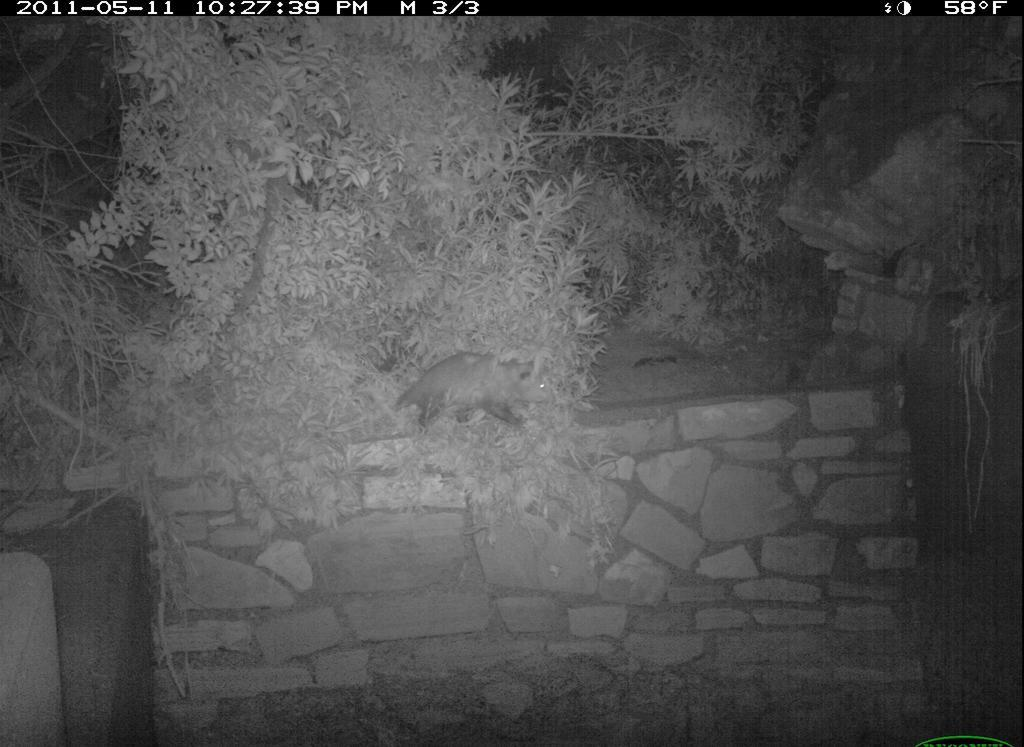opossum: (363, 355, 565, 442)
